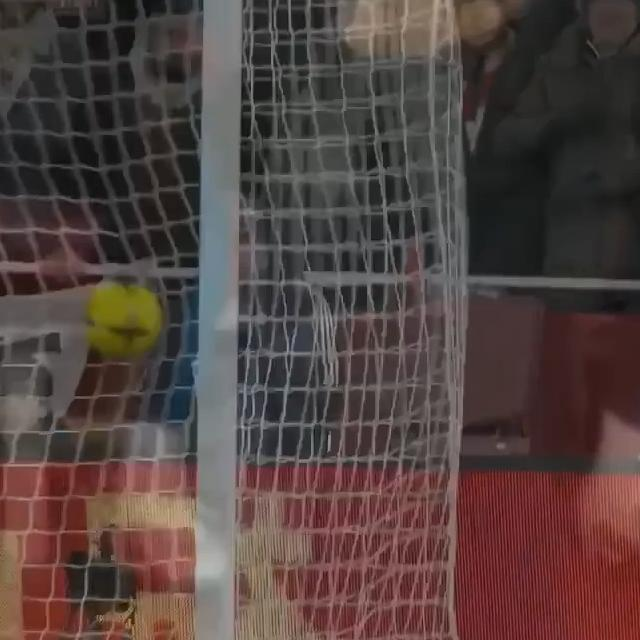ball: (86, 278, 162, 359)
